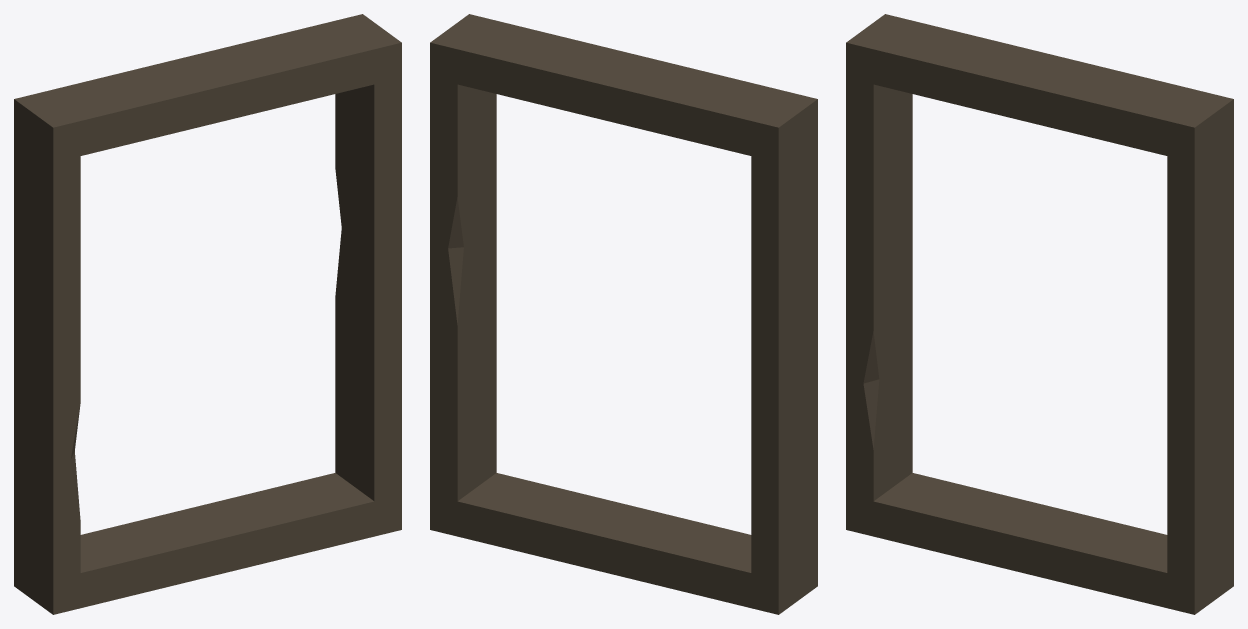
File: SM_Bld_Village_Window_02.glb
The picture shows the model from 3 angles, left to right: view 1: azimuth 30°, elevation 25°; view 2: azimuth 150°, elevation 25°; view 3: azimuth 330°, elevation 25°; orthographic projection.
Parts seen in each view (by area): view 1: SM_Bld_Village_Window_02; view 2: SM_Bld_Village_Window_02; view 3: SM_Bld_Village_Window_02.
Part boxes in pixels (x1,y1,x2,y2): SM_Bld_Village_Window_02: (14,14,401,614); SM_Bld_Village_Window_02: (430,14,817,614); SM_Bld_Village_Window_02: (846,14,1233,614).
Bounding box in the file's own units: 1.19 × 1.59 × 0.2314.
Materials: 1 (1 with a texture image).
